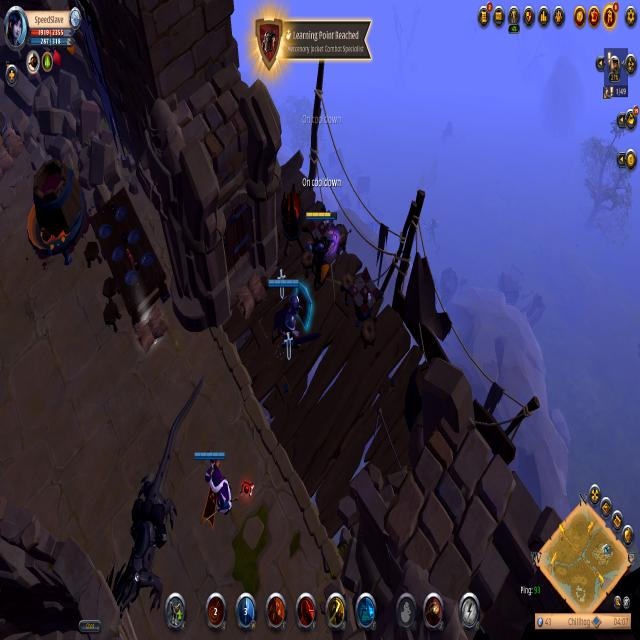ore: (193, 444, 235, 531)
red: (268, 271, 306, 362), (301, 206, 341, 288)
